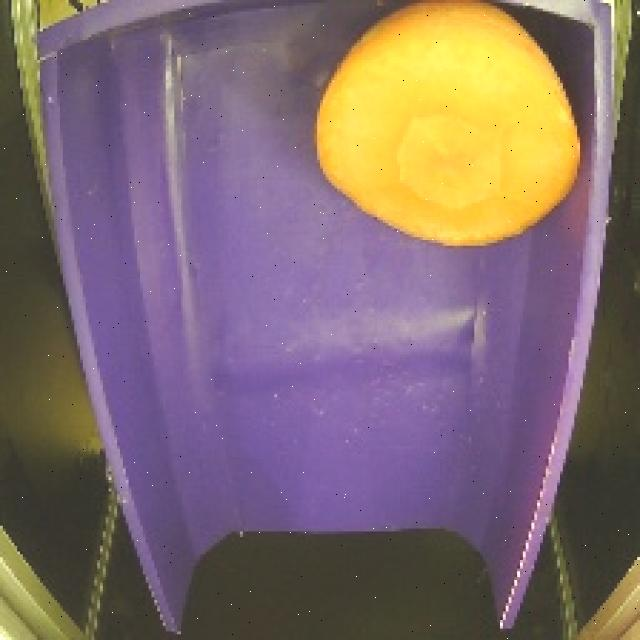carrots: (302, 0, 589, 262)
